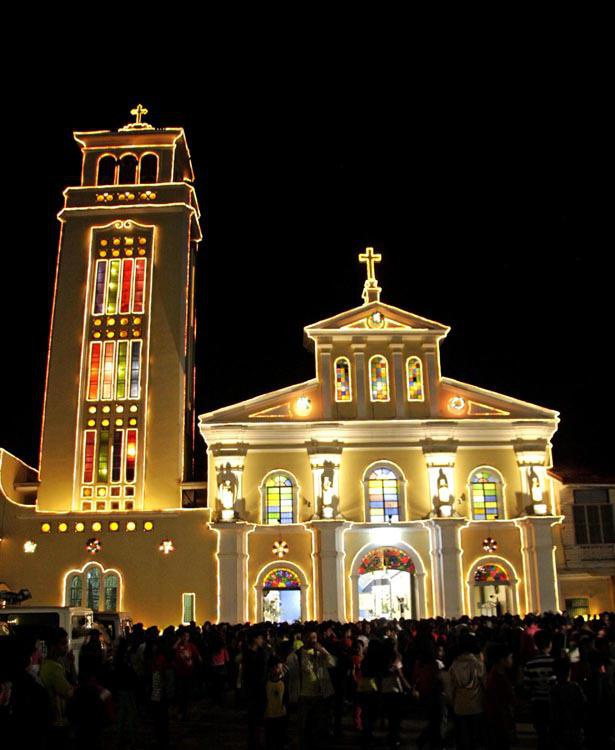manaoag_church_manaoag_pangasinan: (46, 103, 567, 625)
